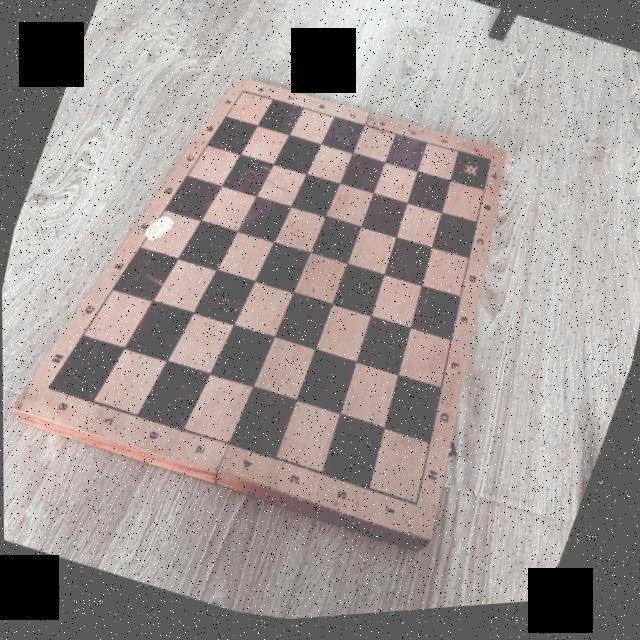chess-table-corners: (40, 380, 55, 398), (408, 502, 422, 518), (236, 88, 248, 102), (484, 161, 494, 174)
